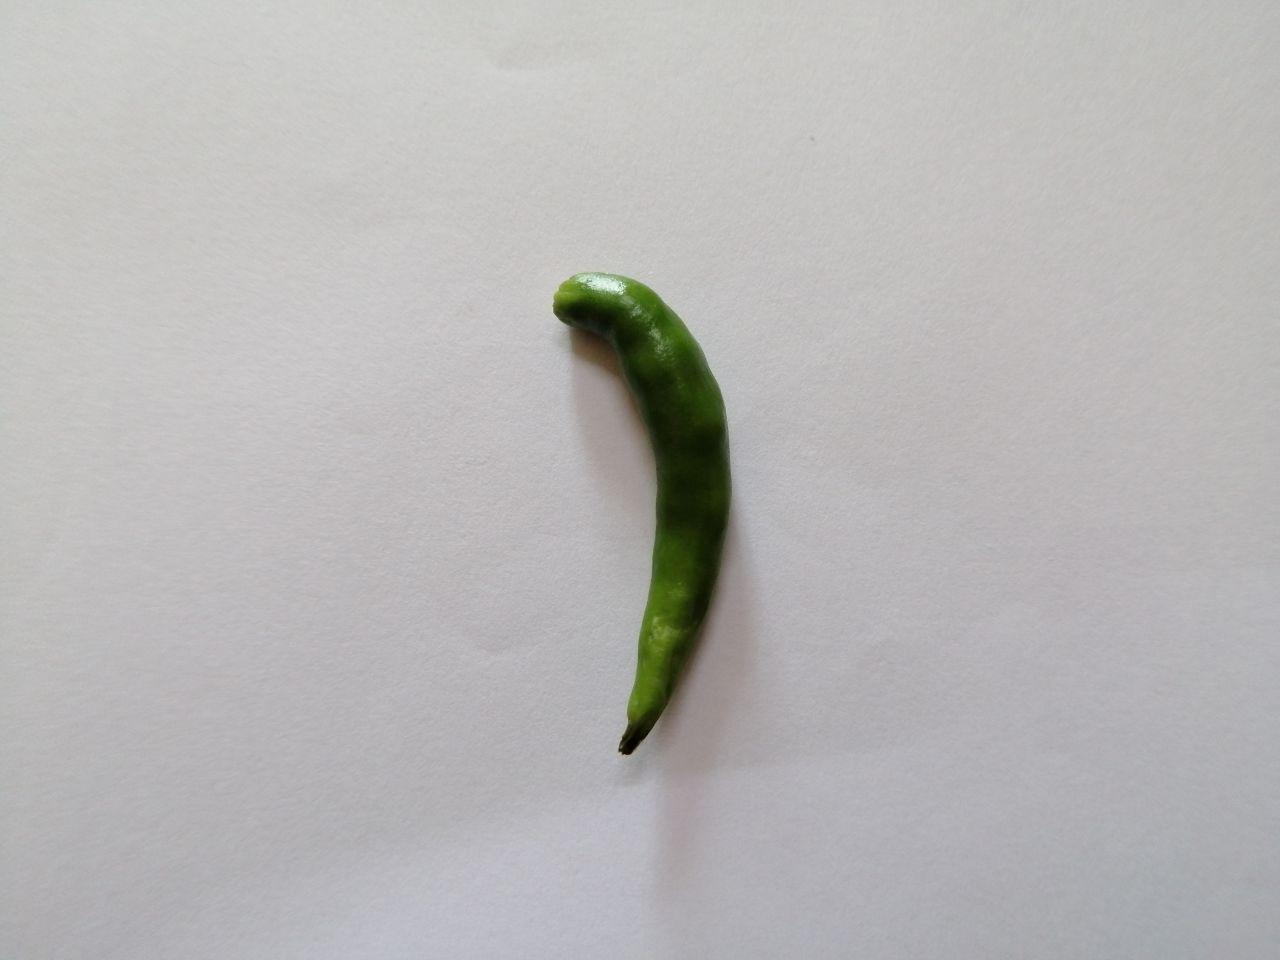lada hijau: (534, 252, 740, 784)
